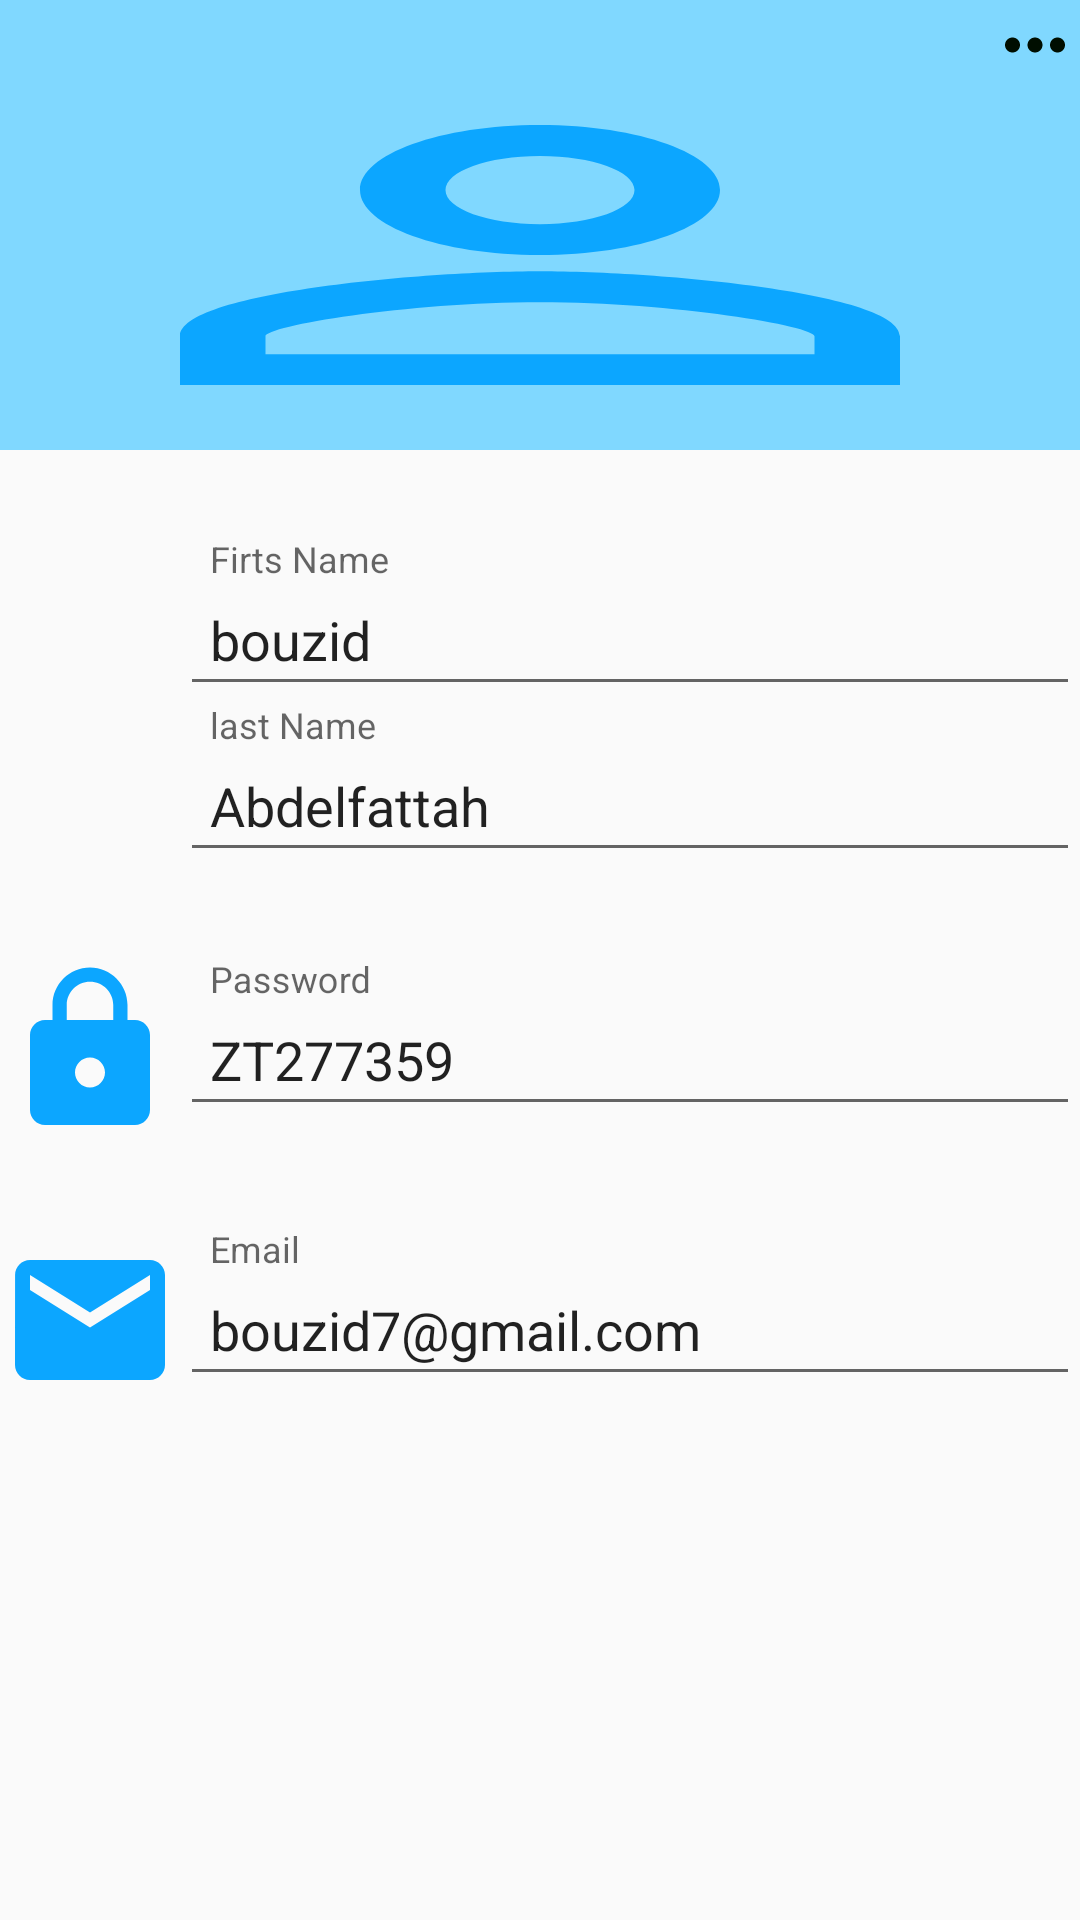

Screen size 1080w x 1920h. Icon name, then its center in pixels as (x,y):
lock profile: (90,1046)
